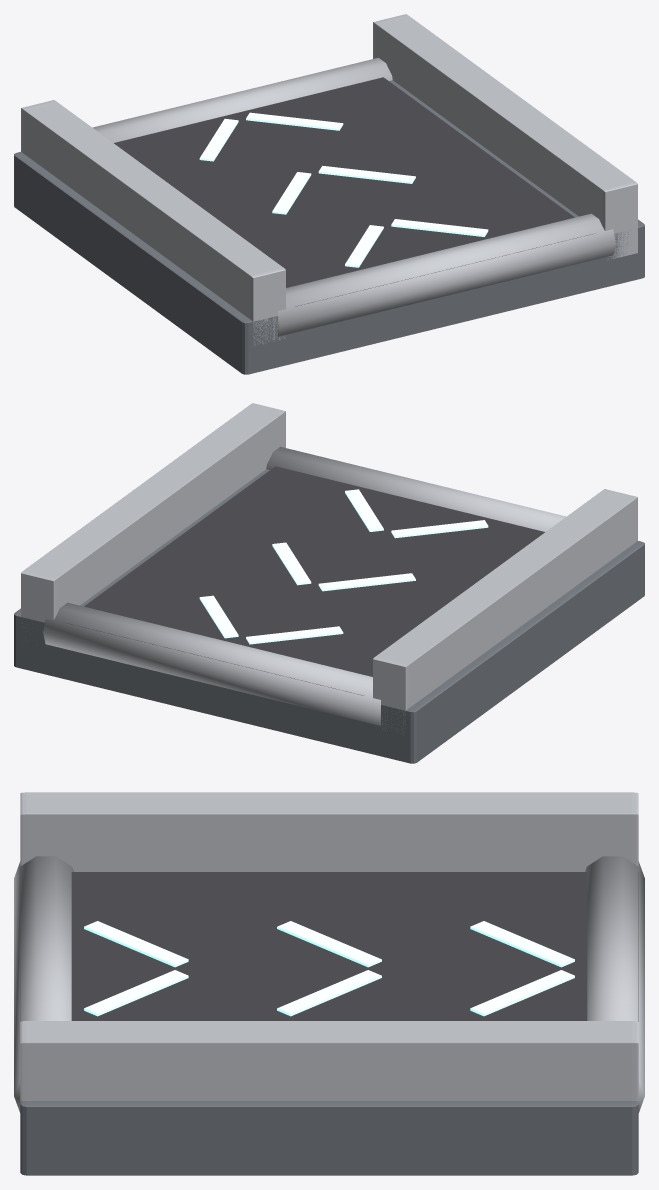
The model's file is belt.glb.
3 renders of one model, top to bottom at view 1: azimuth 30°, elevation 25°; view 2: azimuth 150°, elevation 25°; view 3: azimuth 270°, elevation 25°, orthographic. The views are drawn at different scales.
Visible parts, largest first — view 1: surface, frame, rail_l, rail_r, roller, roller.001, arrow2b, arrow0b, arrow1b, arrow1, arrow2, arrow0; view 2: surface, frame, rail_l, rail_r, roller.001, roller, arrow2, arrow1, arrow0, arrow1b, arrow0b, arrow2b; view 3: surface, rail_r, rail_l, frame, roller, roller.001, arrow0, arrow0b, arrow1, arrow1b, arrow2, arrow2b.
Part boxes in pixels (x1,y1,x2,y2): surface: [114, 77, 595, 306]; frame: [14, 80, 644, 374]; rail_l: [21, 100, 285, 345]; rail_r: [373, 14, 637, 260]; roller: [278, 213, 615, 336]; roller.001: [92, 57, 392, 142]; arrow2b: [246, 112, 343, 130]; arrow0b: [391, 219, 488, 236]; arrow1b: [318, 165, 415, 183]; arrow1: [272, 172, 311, 214]; arrow2: [199, 118, 238, 161]; arrow0: [345, 225, 383, 267]; surface: [63, 466, 544, 695]; frame: [14, 469, 644, 763]; rail_l: [373, 489, 637, 735]; rail_r: [21, 403, 285, 647]; roller.001: [43, 602, 380, 725]; roller: [266, 446, 566, 531]; arrow2: [246, 626, 343, 644]; arrow1: [318, 573, 415, 591]; arrow0: [391, 520, 488, 538]; arrow1b: [272, 542, 311, 585]; arrow0b: [345, 489, 383, 531]; arrow2b: [199, 595, 238, 638]; surface: [20, 872, 638, 1021]; rail_r: [20, 1021, 638, 1101]; rail_l: [20, 792, 638, 871]; frame: [20, 1101, 638, 1175]; roller: [14, 856, 73, 1112]; roller.001: [585, 856, 644, 1112]; arrow0: [84, 921, 188, 967]; arrow0b: [84, 970, 188, 1016]; arrow1: [277, 921, 381, 967]; arrow1b: [277, 970, 381, 1016]; arrow2: [470, 921, 574, 967]; arrow2b: [470, 970, 574, 1016].
Size of the model in its own units: 0.96 by 0.22 by 0.98.
